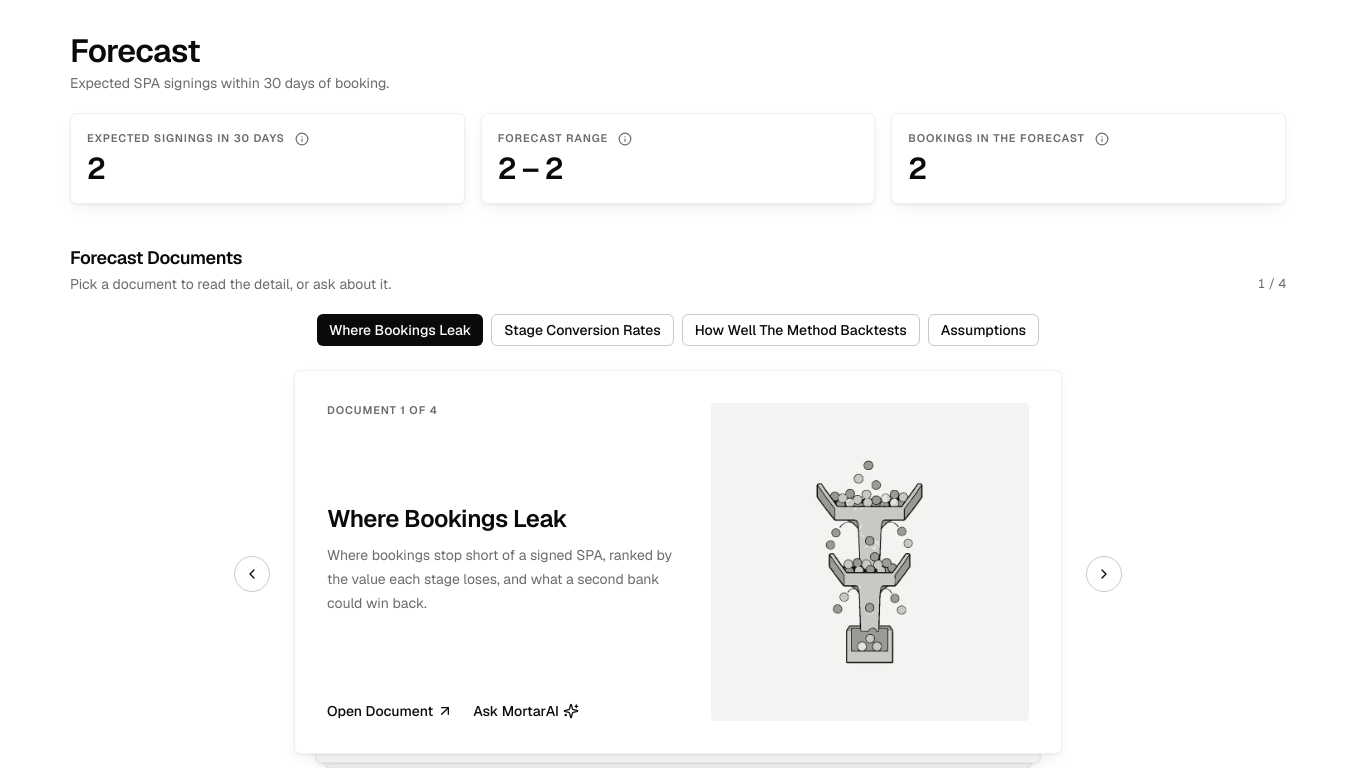
Test: ForecastPage › keeps the assumptions table folded until its own control is opened
The image size is (1366, 768).
Click the button "Assumptions" at (983, 330), box [928, 314, 1039, 346]
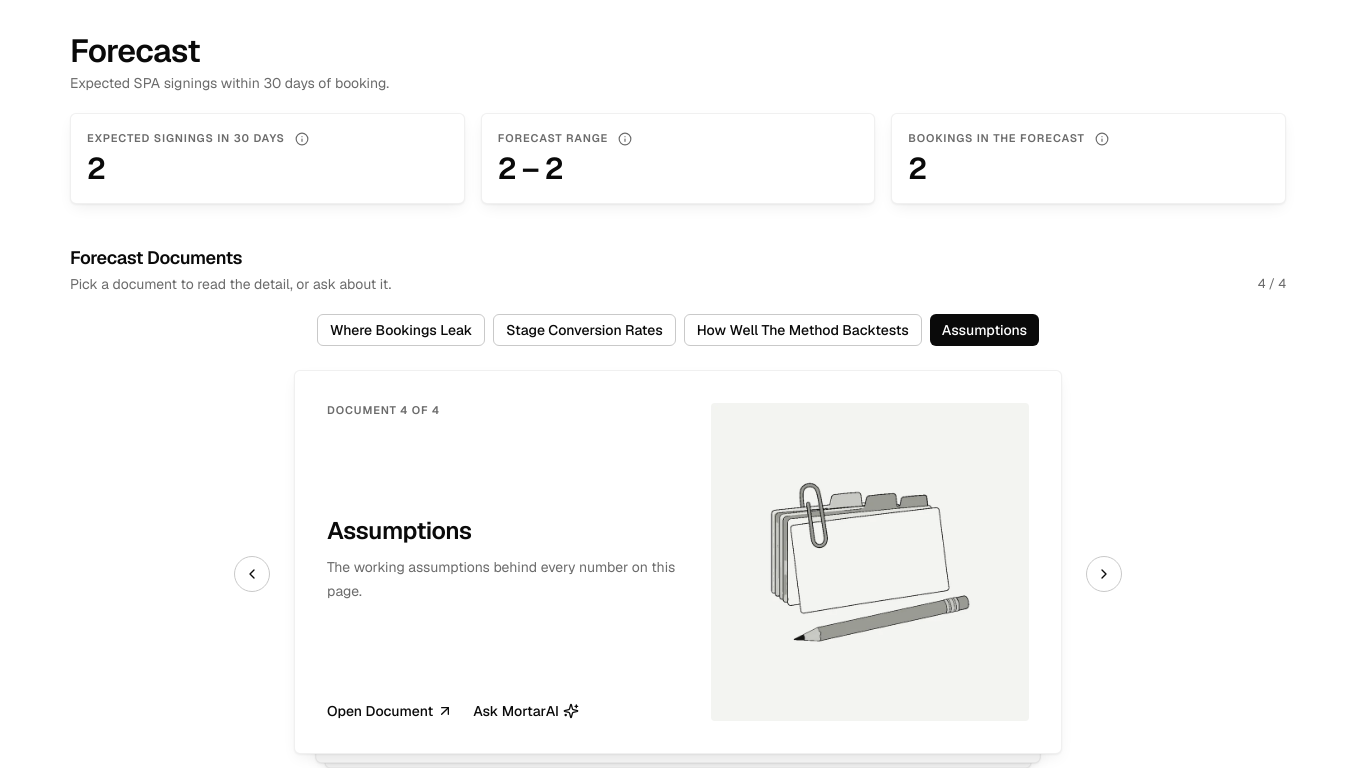
Click the button "Open Document" at (390, 711), box [327, 701, 453, 721]
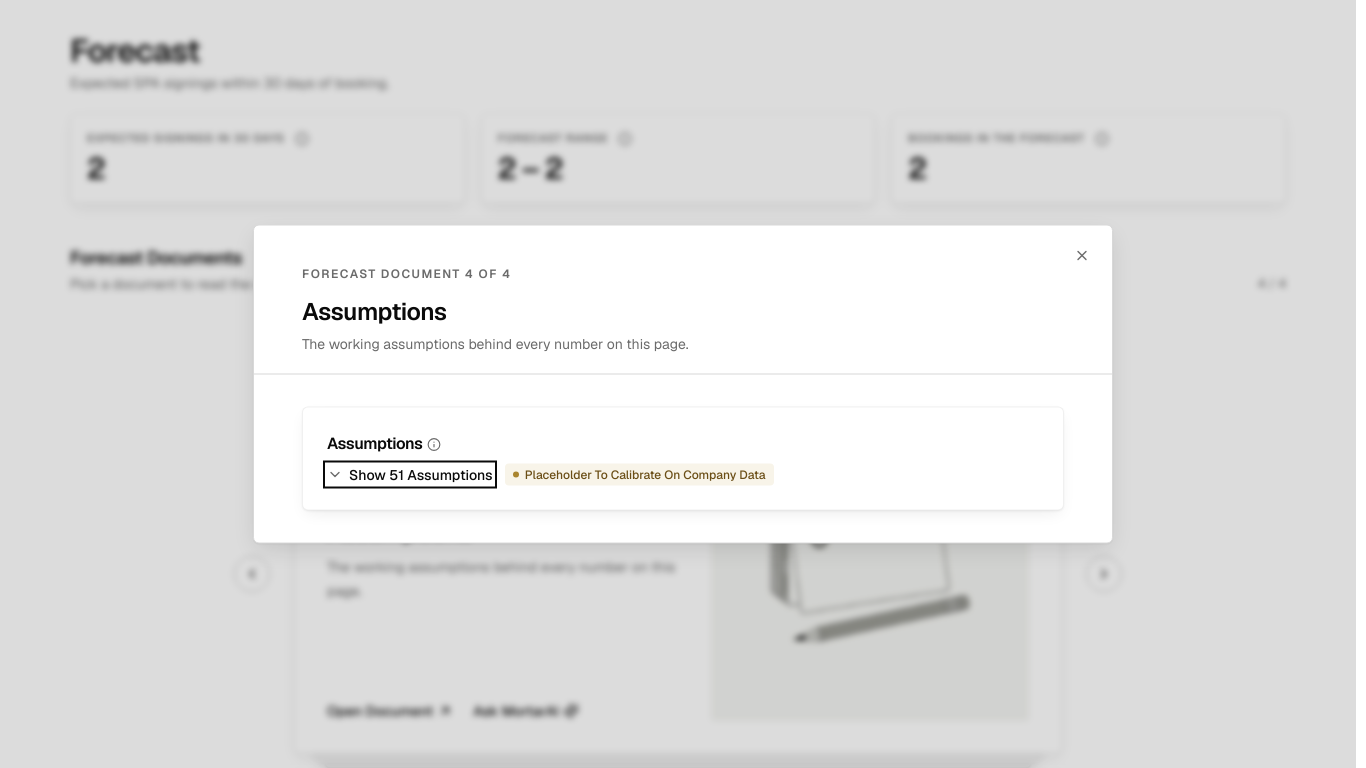
Click the button "Show 51 Assumptions" at (410, 474), box [327, 464, 493, 484]
(page scrolled)
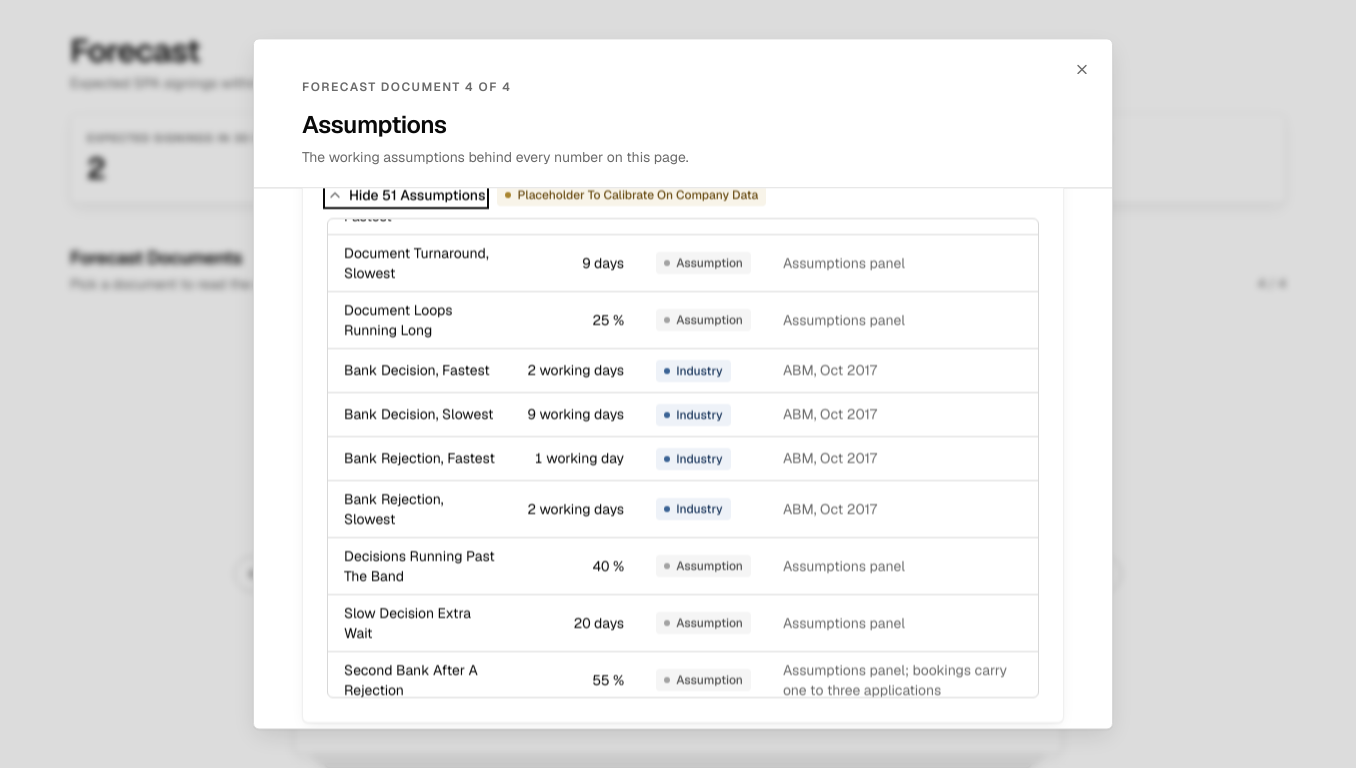
Result: the button "Hide 51 Assumptions" is shown at [327, 188, 485, 205]
Result: the text "1 working day" is shown at [512, 436, 640, 480]
